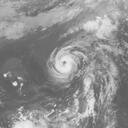cyclone: (47, 47, 86, 86)
